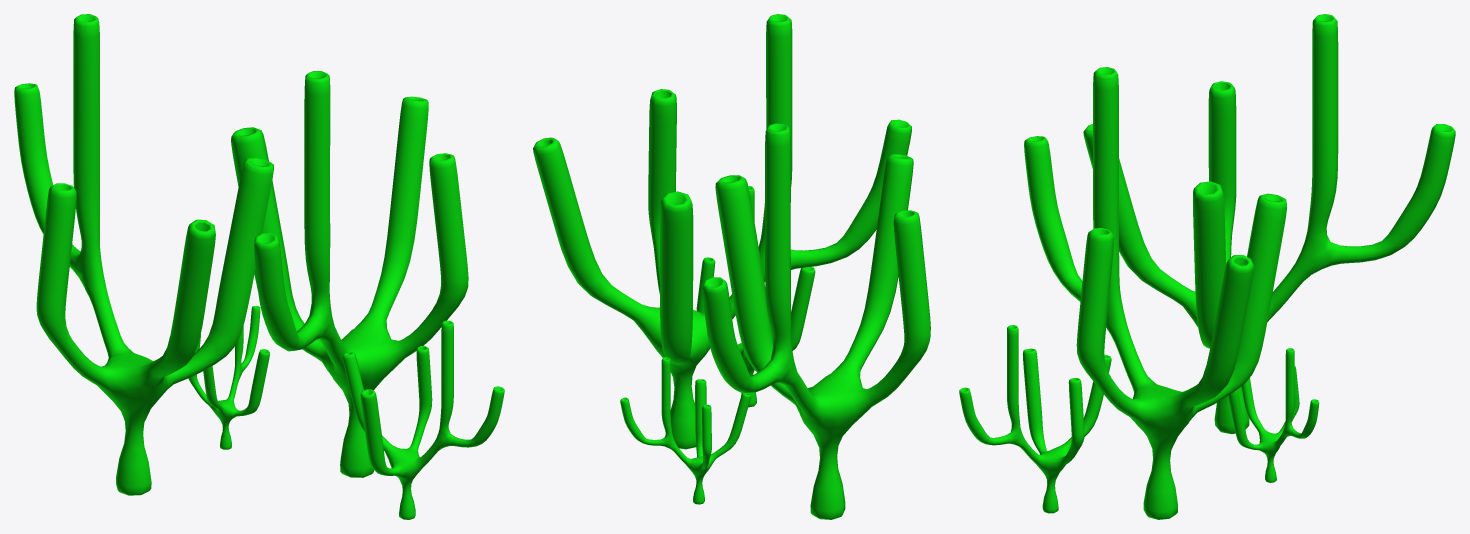
The model's file is tubeCoralCluster.fbx.
3 renders of one model, left to right at view 1: azimuth 30°, elevation 25°; view 2: azimuth 150°, elevation 25°; view 3: azimuth 270°, elevation 25°, orthographic. The views are drawn at different scales.
Parts seen in each view (by area): view 1: coralTubeCluster; view 2: coralTubeCluster; view 3: coralTubeCluster.
Part boxes in pixels (box(x1,y1,x2,y2)): coralTubeCluster: box(14, 14, 504, 519); coralTubeCluster: box(533, 14, 930, 519); coralTubeCluster: box(959, 14, 1455, 519).
Bounding box in the file's own units: 43.62 × 45.57 × 49.79.
